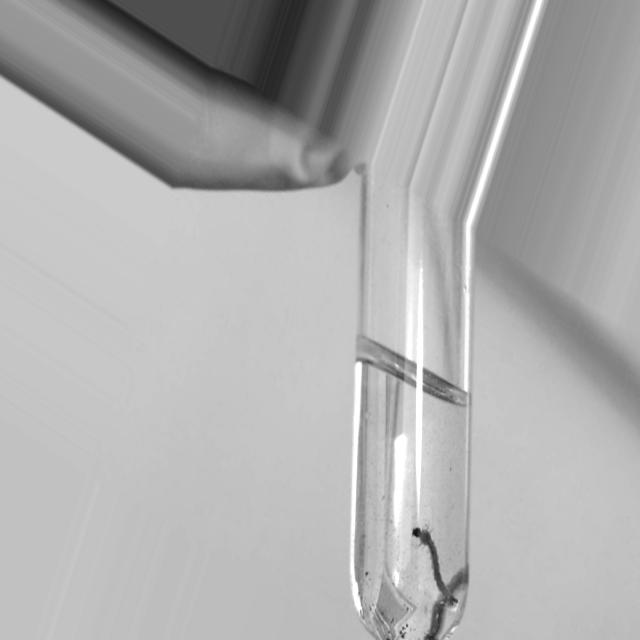larvas: (410, 511, 460, 608), (424, 560, 468, 640)
